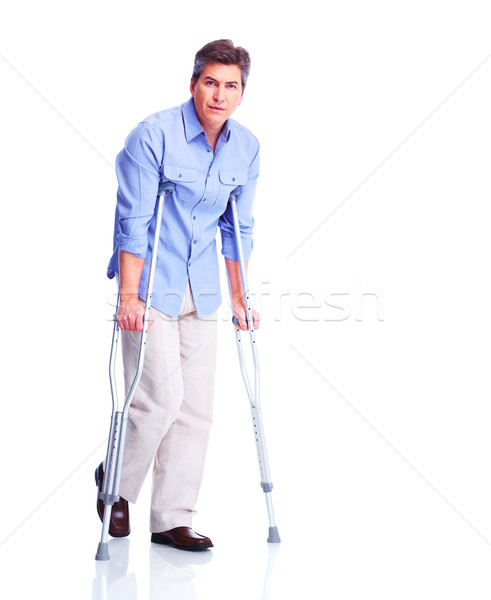crutches: (94, 38, 281, 561)
